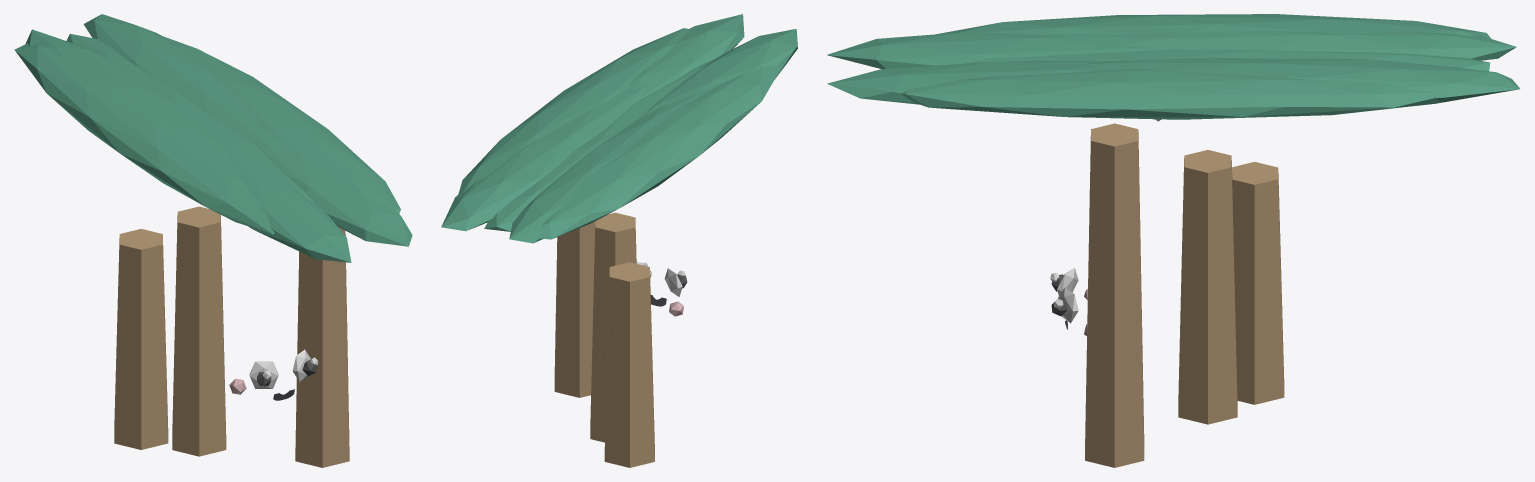
File: rhapis-excelsa.glb
3 views of the same model, side by side, from view 1: azimuth 30°, elevation 25°; view 2: azimuth 150°, elevation 25°; view 3: azimuth 270°, elevation 25° (orthographic). The views are drawn at different scales.
Visible parts, largest first — view 1: frond3, trunk0, trunk1, trunk2, frond0, frond6, frond2, frond1, frond4, frond5, pface-eye-r; view 2: frond3, trunk1, frond6, trunk2, frond0, trunk0, frond4, frond2, frond1, frond5; view 3: frond0, trunk2, trunk0, trunk1, frond6, frond4, frond3, frond2, frond1, frond5.
Boxes of the visible parts, bbox=[...] form: frond3: bbox=[14, 43, 274, 233]; trunk0: bbox=[172, 206, 226, 456]; trunk1: bbox=[114, 229, 168, 449]; trunk2: bbox=[295, 227, 349, 467]; frond0: bbox=[158, 34, 400, 213]; frond6: bbox=[83, 14, 280, 152]; frond2: bbox=[213, 134, 351, 262]; frond1: bbox=[255, 141, 412, 246]; frond4: bbox=[25, 29, 244, 181]; frond5: bbox=[66, 33, 314, 203]; pface-eye-r: bbox=[249, 361, 278, 388]; frond3: bbox=[533, 65, 782, 239]; trunk1: bbox=[604, 262, 654, 467]; frond6: bbox=[441, 85, 647, 231]; trunk2: bbox=[554, 221, 595, 397]; frond0: bbox=[458, 28, 689, 193]; trunk0: bbox=[590, 212, 636, 442]; frond4: bbox=[509, 85, 716, 243]; frond2: bbox=[639, 29, 797, 118]; frond1: bbox=[626, 14, 744, 99]; frond5: bbox=[484, 60, 711, 231]; frond0: bbox=[901, 69, 1441, 119]; trunk2: bbox=[1085, 123, 1144, 467]; trunk0: bbox=[1178, 150, 1237, 424]; trunk1: bbox=[1232, 162, 1284, 404]; frond6: bbox=[1083, 57, 1519, 103]; frond4: bbox=[1040, 30, 1516, 60]; frond3: bbox=[936, 14, 1491, 38]; frond2: bbox=[827, 32, 1164, 69]; frond1: bbox=[827, 60, 1116, 104]; frond5: bbox=[966, 49, 1490, 71].
Bounding box in the file's own units: 0.2496 × 0.4082 × 0.709.
